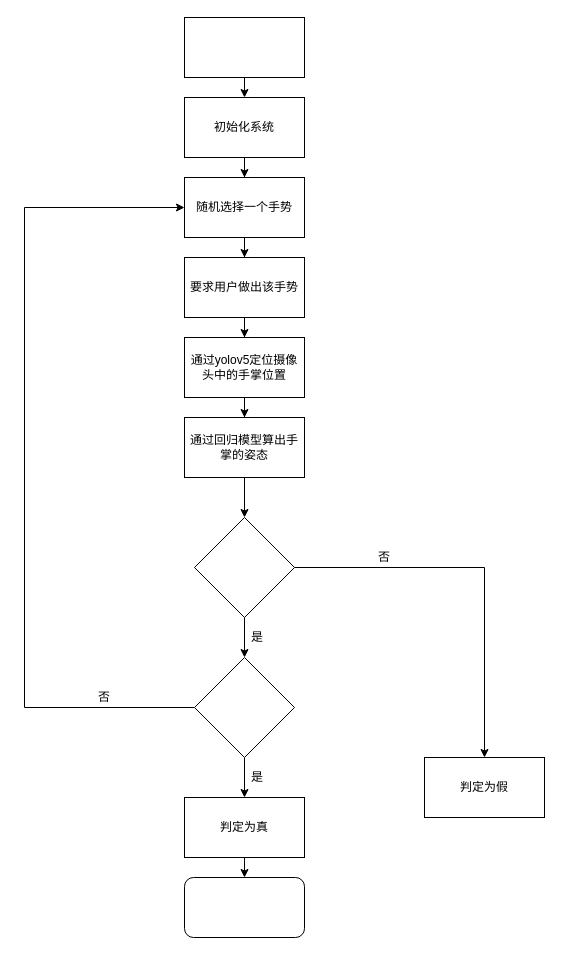
The diagram is 562 pixels wide and 955 high, and some of its shapes have lost their labels. The shapes that lost their labels are listed below. From the top down, each one's centre as x and y in pixels, then its label:
At (244,47): "开始".
At (244,567): "姿态符合".
At (244,707): "判断次大于 等于N".
At (244,907): "输出".
